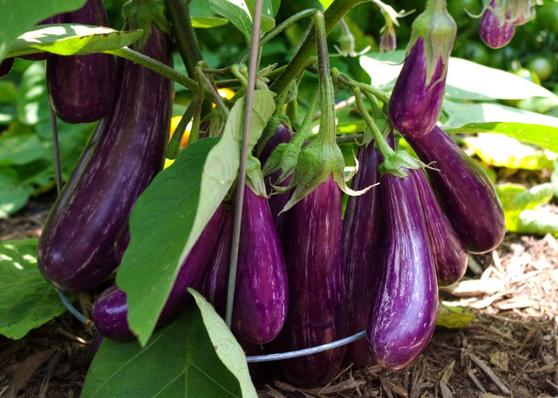eggplant: (35, 25, 180, 283), (272, 141, 366, 391), (365, 152, 444, 364), (415, 119, 520, 252), (230, 162, 287, 352), (386, 10, 459, 140)
